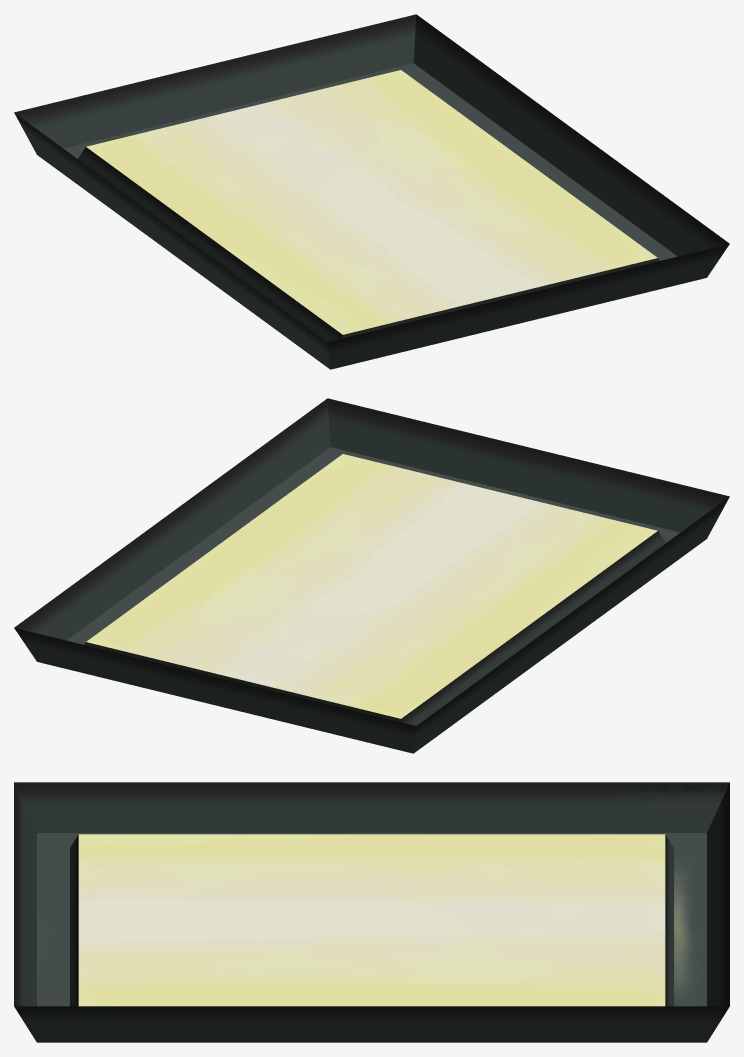
The model's file is lamp_square.FBX.
The picture shows the model from 3 angles, top to bottom: view 1: azimuth 30°, elevation 25°; view 2: azimuth 150°, elevation 25°; view 3: azimuth 270°, elevation 25°; orthographic projection. The views are drawn at different scales.
Visible parts, largest first — view 1: Mesh_0041; view 2: Mesh_0041; view 3: Mesh_0041.
Part boxes in pixels (left/top/right/bottom): Mesh_0041: left=14, top=14, right=729, bottom=369; Mesh_0041: left=14, top=398, right=729, bottom=753; Mesh_0041: left=14, top=782, right=729, bottom=1042.
Size of the model in its own units: 372 by 33.84 by 502.
